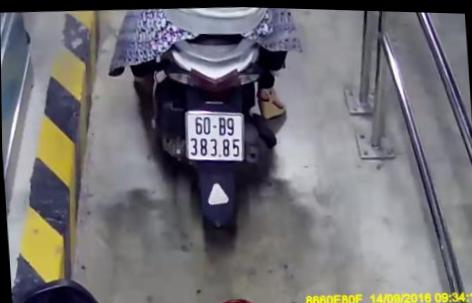LP: (182, 104, 245, 163)
